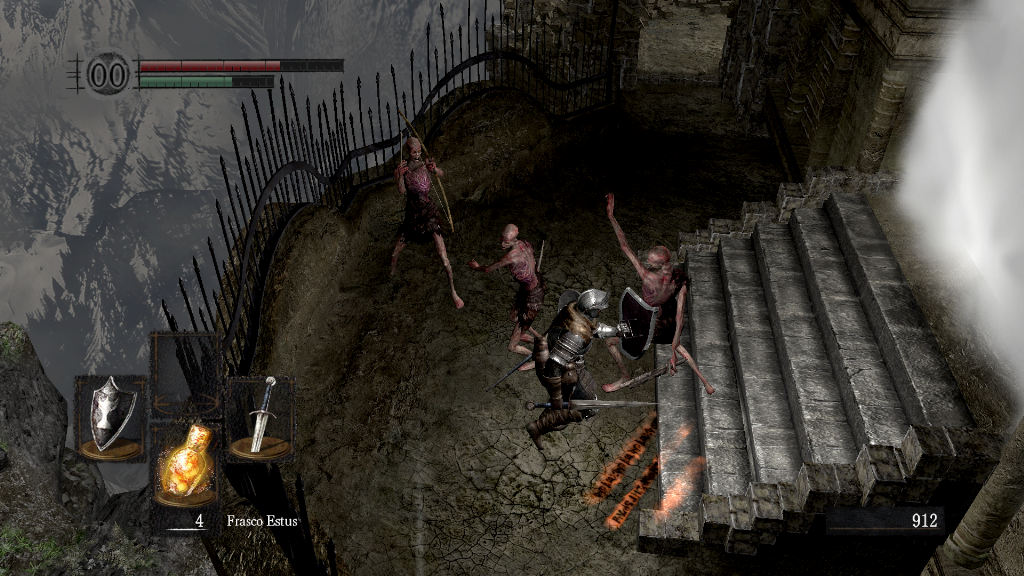health: (138, 58, 343, 71)
hollow: (599, 186, 717, 402), (381, 109, 465, 311), (469, 218, 551, 373)
humanity: (80, 45, 136, 102)
player: (483, 287, 662, 452)
souls: (825, 506, 945, 536)
stamina: (138, 74, 274, 88)
